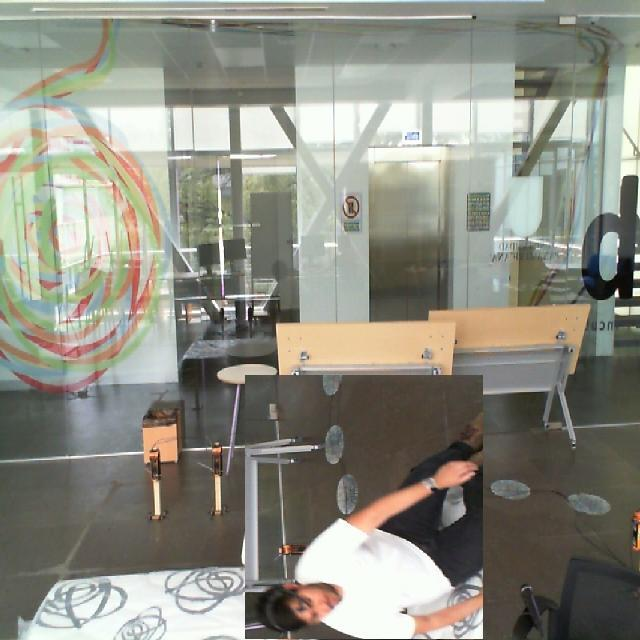NotFall: (226, 452, 453, 620)
